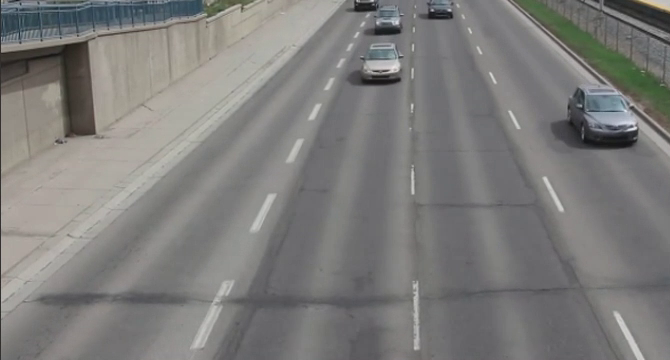car: (565, 86, 642, 152), (359, 43, 404, 79), (374, 5, 405, 33), (425, 1, 461, 18)
